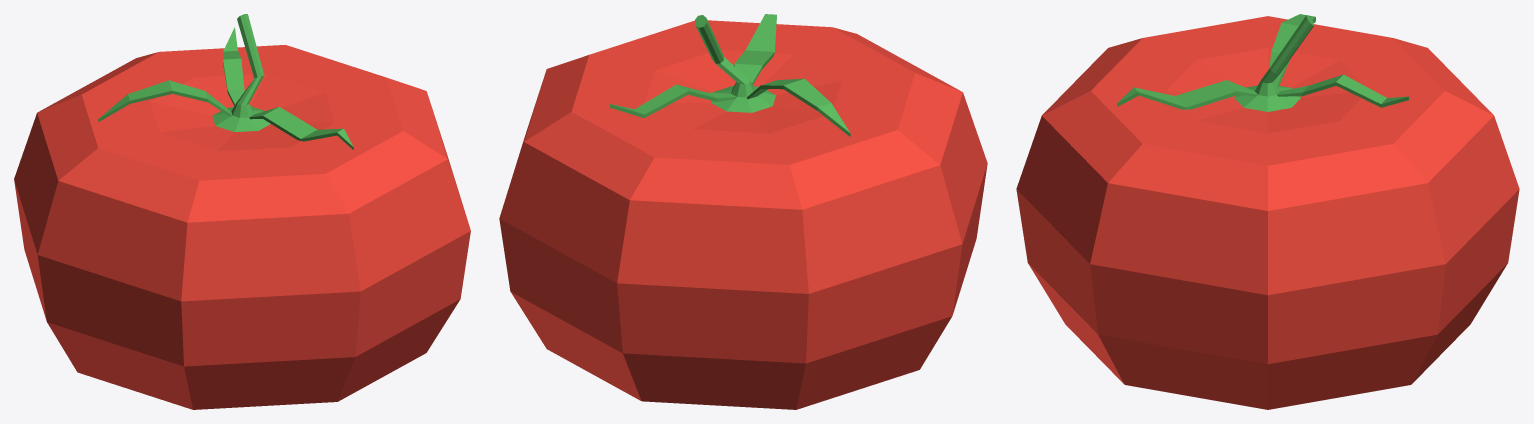
Rendered from Tomato_01.gltf.
The picture shows the model from 3 angles, left to right: view 1: azimuth 30°, elevation 25°; view 2: azimuth 150°, elevation 25°; view 3: azimuth 270°, elevation 25°; orthographic projection. The views are drawn at different scales.
Visible parts, largest first — view 1: node-0; view 2: node-0; view 3: node-0.
Boxes of the visible parts, box(x1,y1,x2,y2) form: node-0: box(14, 14, 470, 409); node-0: box(499, 14, 987, 409); node-0: box(1016, 14, 1519, 409).
Bounding box in the file's own units: 12.89 × 9.87 × 12.89.
